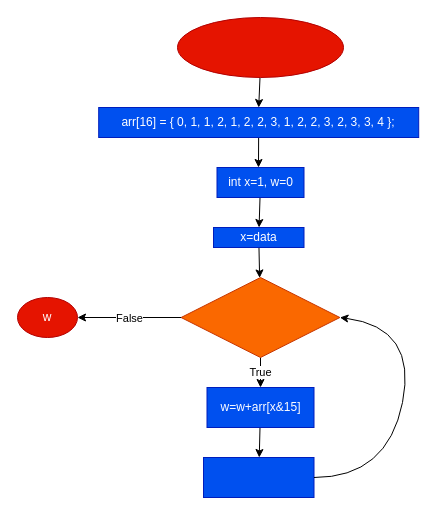
Some shapes in this 437 by 515 pixel diagram are drawn without their labels. The shapes that lost their labels are listed below. From the top down, each one's box as (x1, y1, x2, y2) in pixels, then its label:
(176, 16, 344, 78): int counter(int data)
(180, 276, 340, 358): x>0
(202, 456, 314, 498): x=x>>4
